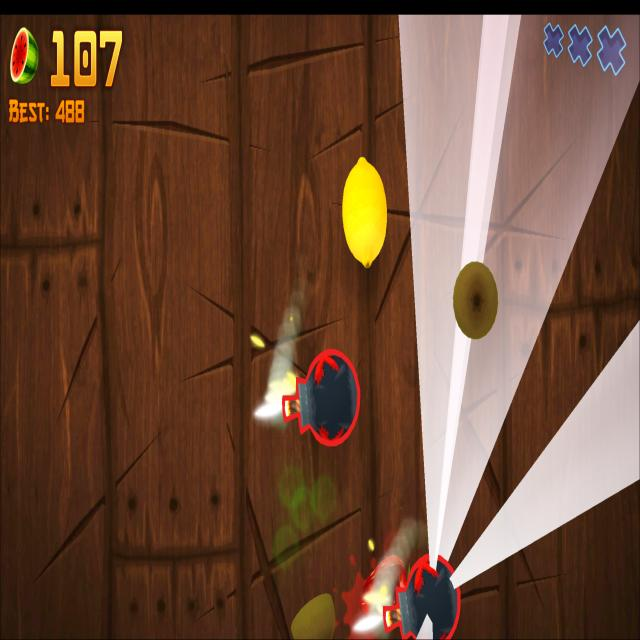bomb: (281, 346, 362, 448), (384, 550, 462, 640)
fruit: (342, 156, 388, 268), (452, 260, 498, 340), (290, 592, 336, 639)
